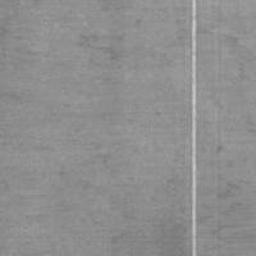Welding line: (191, 0, 198, 256)
